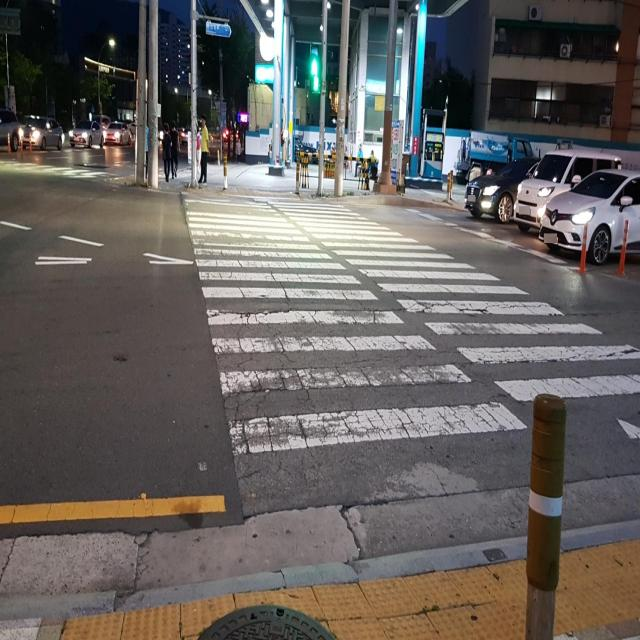초록불: (306, 41, 320, 92)
횡단보도: (178, 188, 640, 461)
